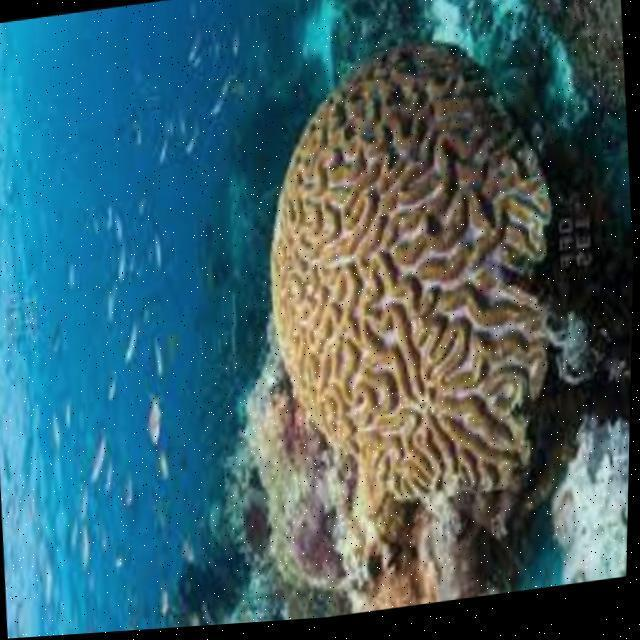Healthy Coral: (272, 12, 620, 542)
